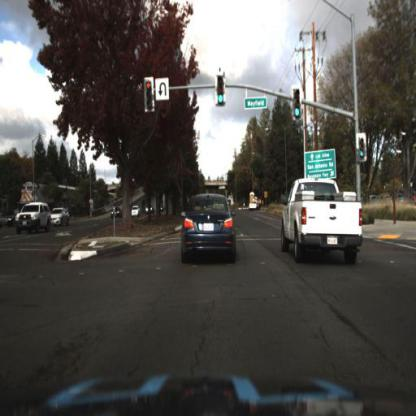car: (280, 173, 364, 268), (179, 192, 238, 266), (13, 198, 49, 233), (50, 209, 72, 228), (132, 201, 146, 219), (249, 191, 261, 212), (251, 191, 261, 211), (110, 205, 122, 220)
trafficLight-Green: (351, 137, 369, 176), (291, 89, 305, 129), (214, 80, 228, 119)
trafficLight-RedLeft: (144, 77, 159, 123)
